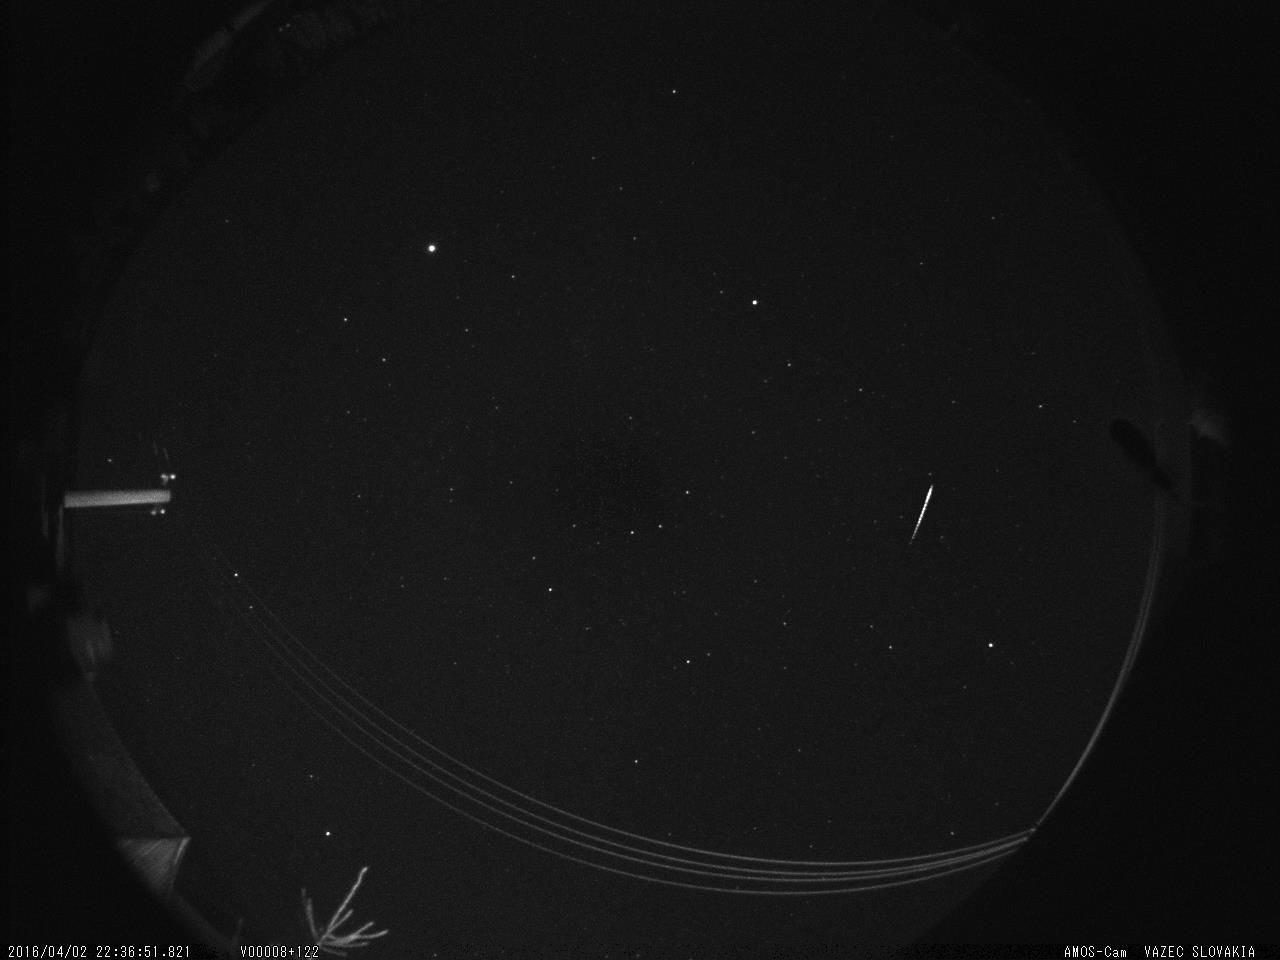meteor: (899, 466, 947, 555)
